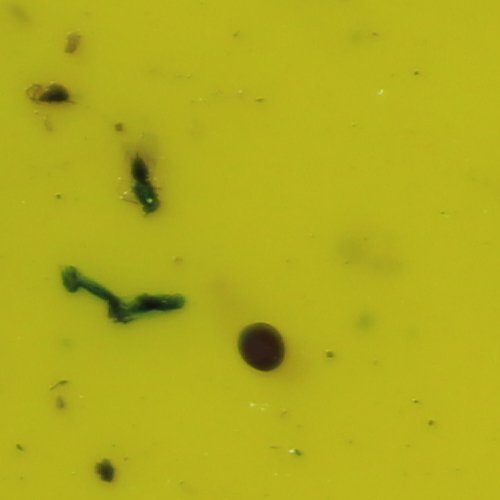Psyllaephagus: (125, 147, 160, 220)
